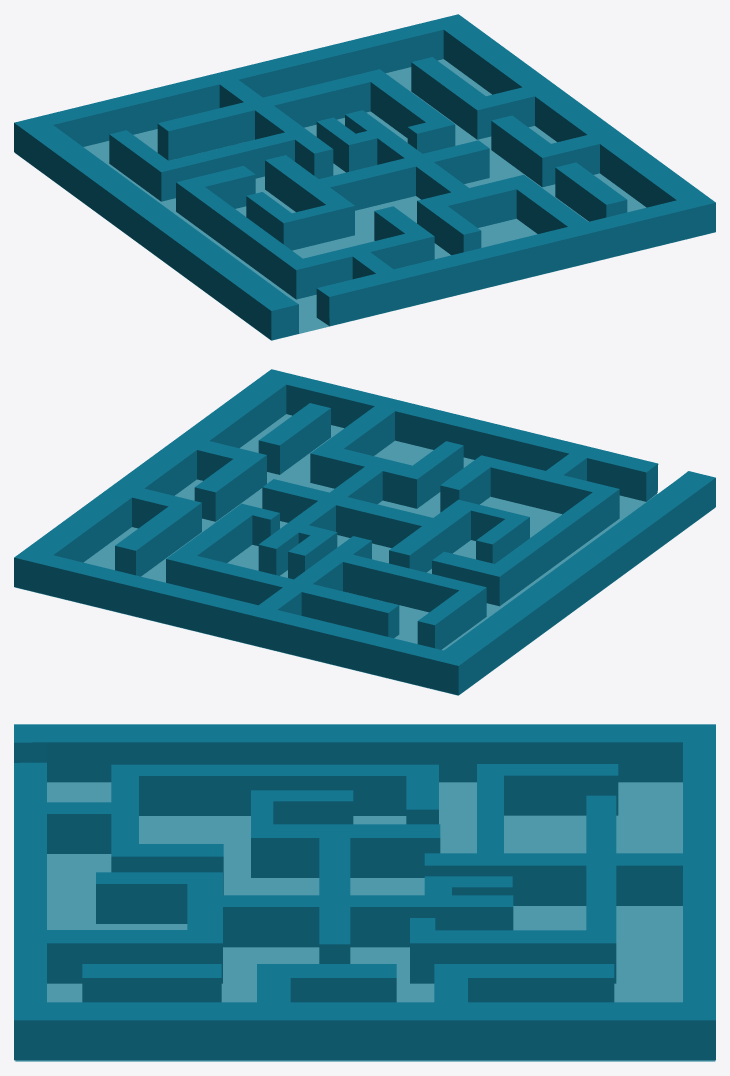
The picture shows the model from 3 angles, top to bottom: view 1: azimuth 30°, elevation 25°; view 2: azimuth 150°, elevation 25°; view 3: azimuth 270°, elevation 25°; orthographic projection. The views are drawn at different scales.
Parts seen in each view (by area): view 1: Box002, Box001, Plane001, Box005, Box004, Box003; view 2: Box002, Box001, Plane001, Box005, Box004, Box003; view 3: Box002, Box001, Plane001, Box005, Box003, Box004.
Boxes of the visible parts, x1=… form: Box002: x1=25, y1=23, x2=715, y2=340; Box001: x1=14, y1=14, x2=469, y2=201; Plane001: x1=15, y1=59, x2=714, y2=340; Box005: x1=411, y1=57, x2=534, y2=139; Box004: x1=491, y1=115, x2=599, y2=187; Box003: x1=555, y1=162, x2=627, y2=221; Box002: x1=26, y1=369, x2=715, y2=686; Box001: x1=14, y1=503, x2=486, y2=695; Plane001: x1=14, y1=414, x2=714, y2=695; Box005: x1=115, y1=488, x2=201, y2=576; Box004: x1=194, y1=441, x2=266, y2=521; Box003: x1=258, y1=403, x2=330, y2=474; Box002: x1=14, y1=724, x2=686, y2=1060; Box001: x1=410, y1=724, x2=715, y2=1060; Plane001: x1=15, y1=782, x2=715, y2=1061; Box005: x1=434, y1=964, x2=614, y2=1002; Box003: x1=82, y1=964, x2=221, y2=1002; Box004: x1=257, y1=964, x2=396, y2=1002.
Bounding box in the file's own units: 350 × 22.65 × 351.
